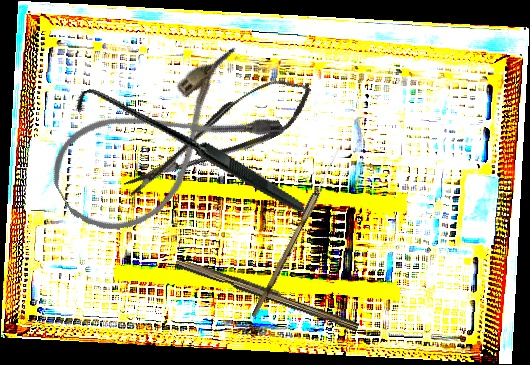Cannula: (37, 41, 289, 251)
Hook Surgical: (72, 32, 306, 276)
Micro Scissor: (112, 66, 323, 208)
Scalpel Handle: (173, 254, 362, 333)
Surgical Spoon: (251, 145, 343, 320)
